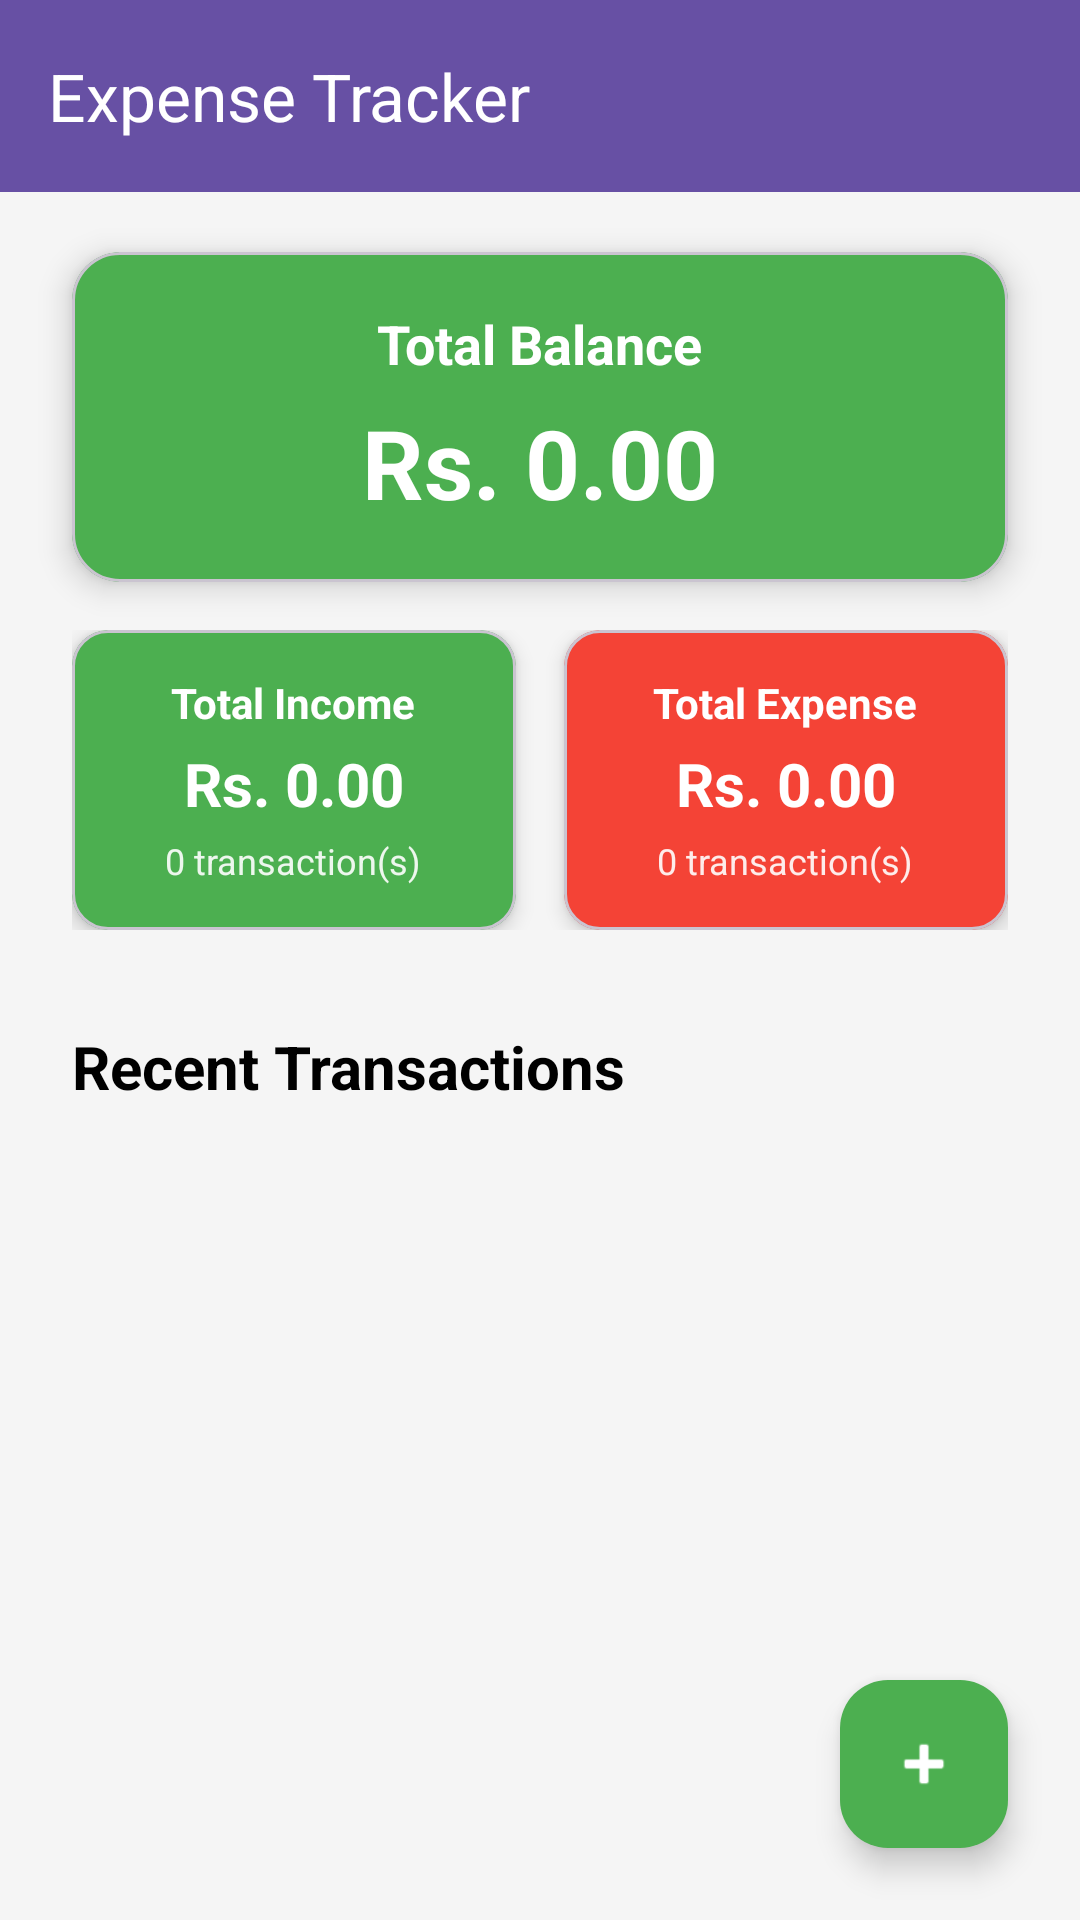

Icon click points for this 1080*1920 phone screenshot, format (x=x, y=y):
Add Transaction: (x=924, y=1764)
